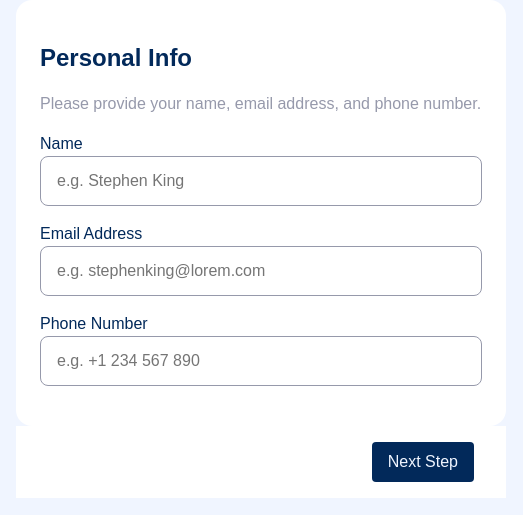
Test: Step1 - Your info - validation › displays validation error messages when fields are empty
The width and height of the screenshot is (523, 515).
Click the button "Next Step": coordinates (423, 462) left=372, top=442, right=474, bottom=482
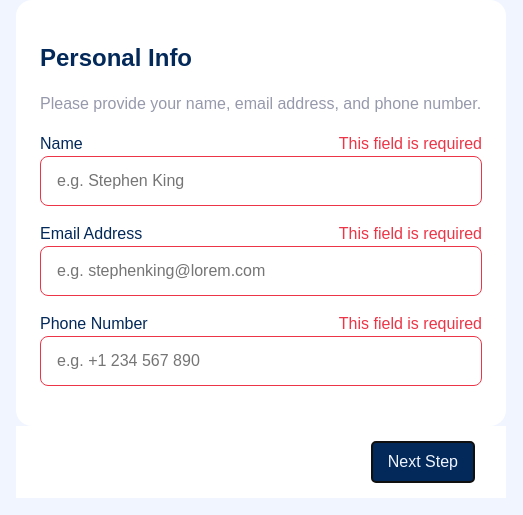
Result: the text "This field is required" is shown 3 times at left=339, top=132, right=482, bottom=156; left=339, top=222, right=482, bottom=246; left=339, top=312, right=482, bottom=336
